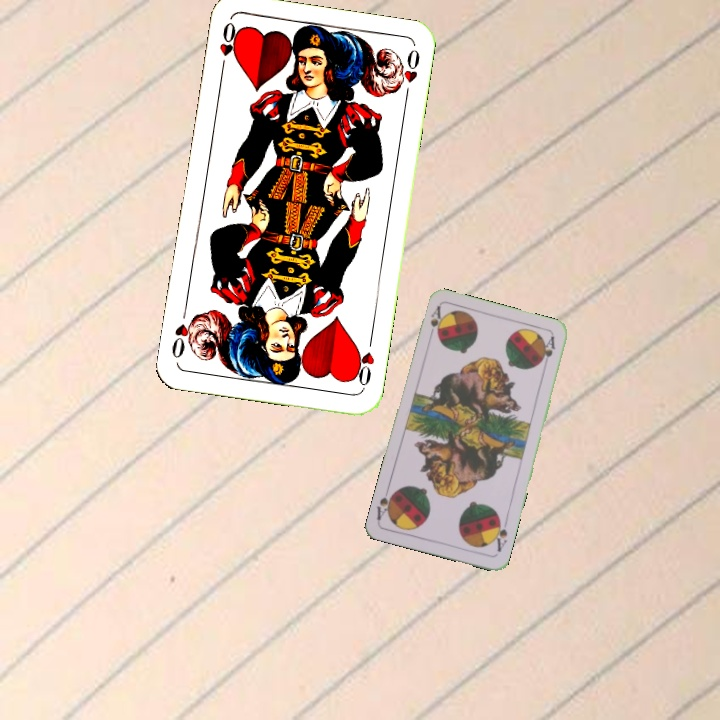HO: (349, 332, 377, 391), (215, 18, 241, 76)
SA: (489, 514, 510, 554), (425, 302, 446, 342)
